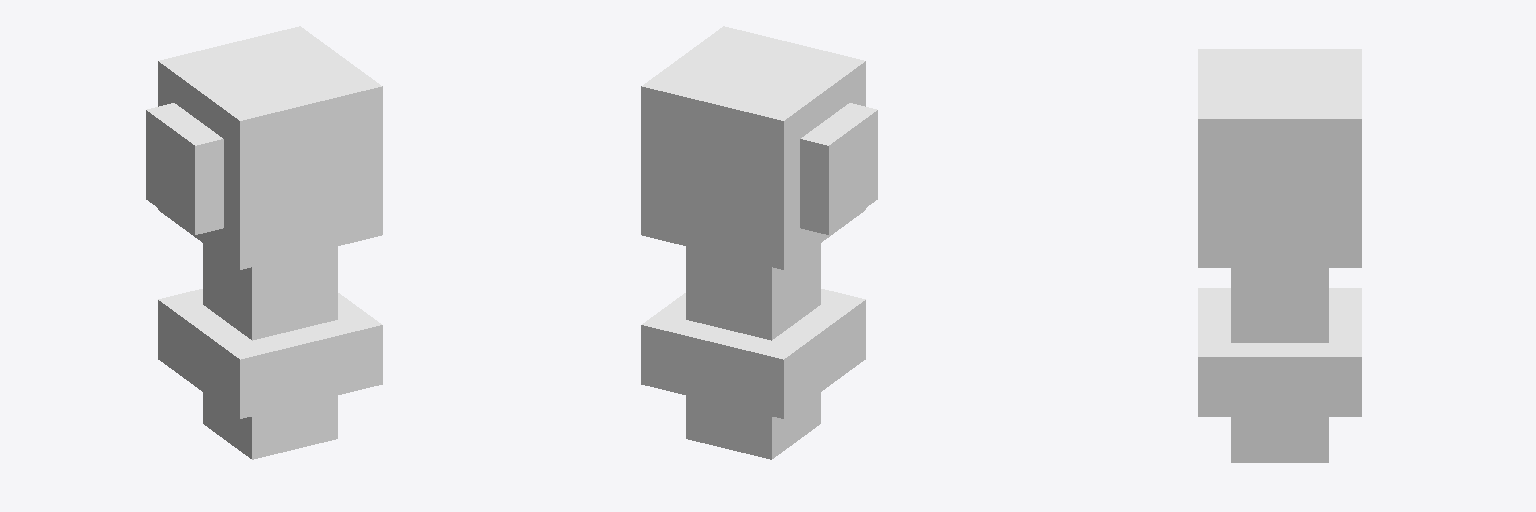
File: Franky_BL.obj
3 renders of one model, left to right at view 1: azimuth 30°, elevation 25°; view 2: azimuth 150°, elevation 25°; view 3: azimuth 270°, elevation 25°, orthographic.
Visible parts, largest first — view 1: object 1; view 2: object 1; view 3: object 1.
Boxes of the visible parts, x1,y1,x2,y2 form: object 1: [146, 26, 382, 459]; object 1: [641, 26, 877, 459]; object 1: [1198, 49, 1361, 462].
Bounding box in the file's own units: 0.6 × 1.2 × 0.5.